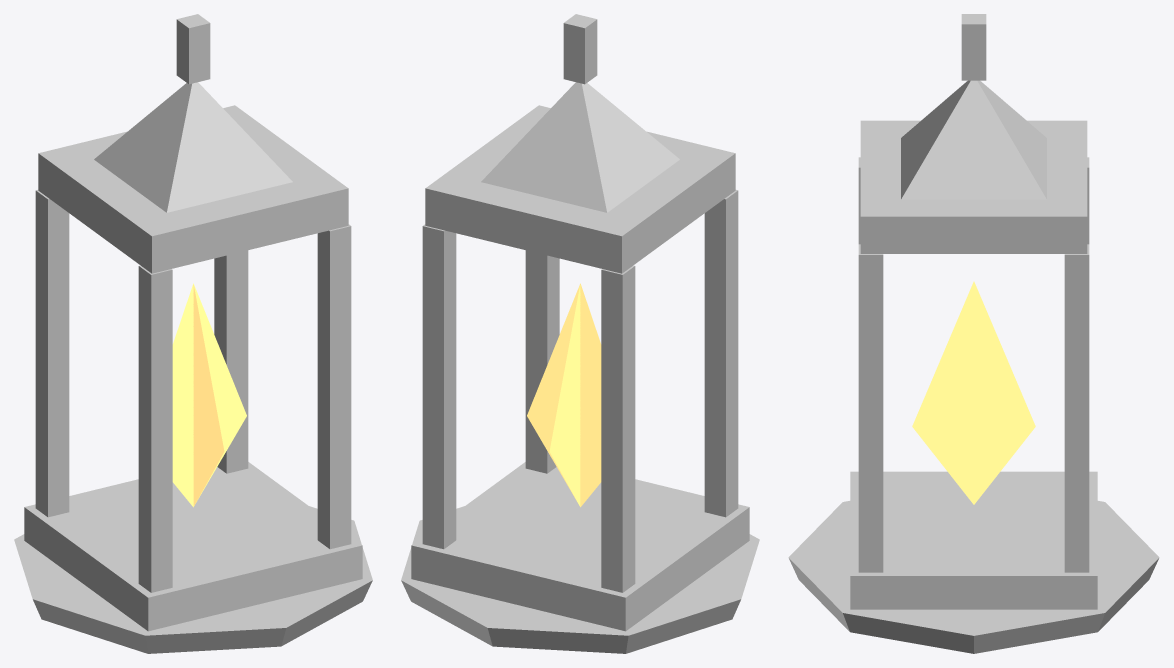
Rendered from prop.sill_lamp.glb.
3 views of the same model, side by side, from view 1: azimuth 30°, elevation 25°; view 2: azimuth 150°, elevation 25°; view 3: azimuth 270°, elevation 25° (orthographic).
Parts seen in each view (by area): view 1: prop.sill_lamp; view 2: prop.sill_lamp; view 3: prop.sill_lamp.
Part boxes in pixels (x1=…): prop.sill_lamp: x1=14, y1=14, x2=372, y2=653; prop.sill_lamp: x1=401, y1=14, x2=759, y2=653; prop.sill_lamp: x1=788, y1=14, x2=1159, y2=653.
Size of the model in its own units: 0.18 by 0.3 by 0.18.
